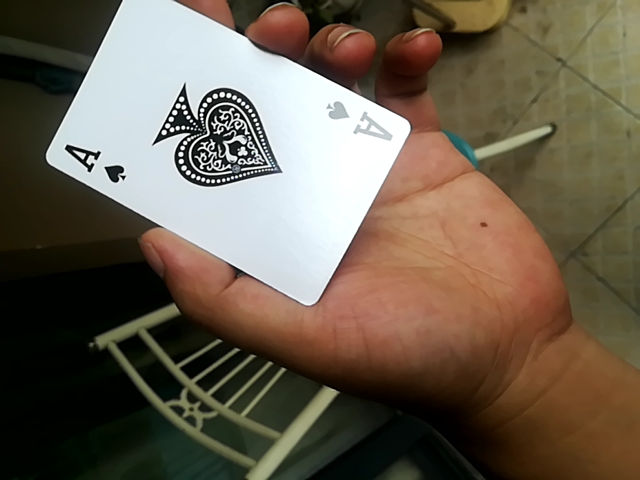ht a: (39, 3, 404, 314)
